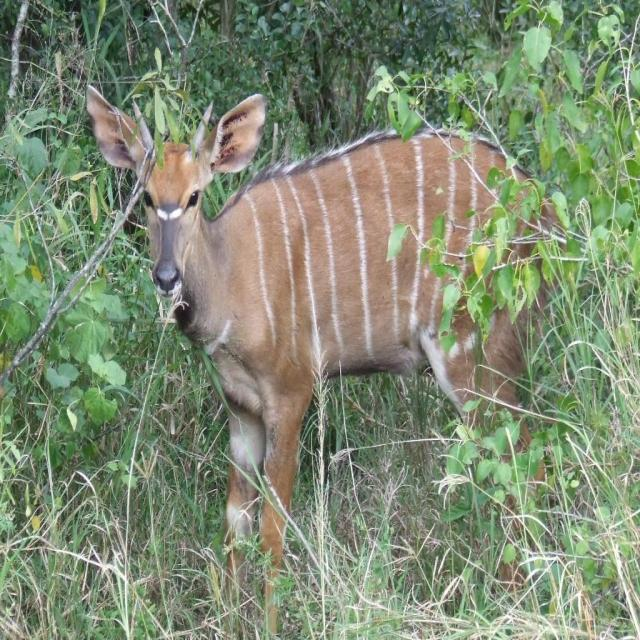Deer: (86, 85, 565, 639)
